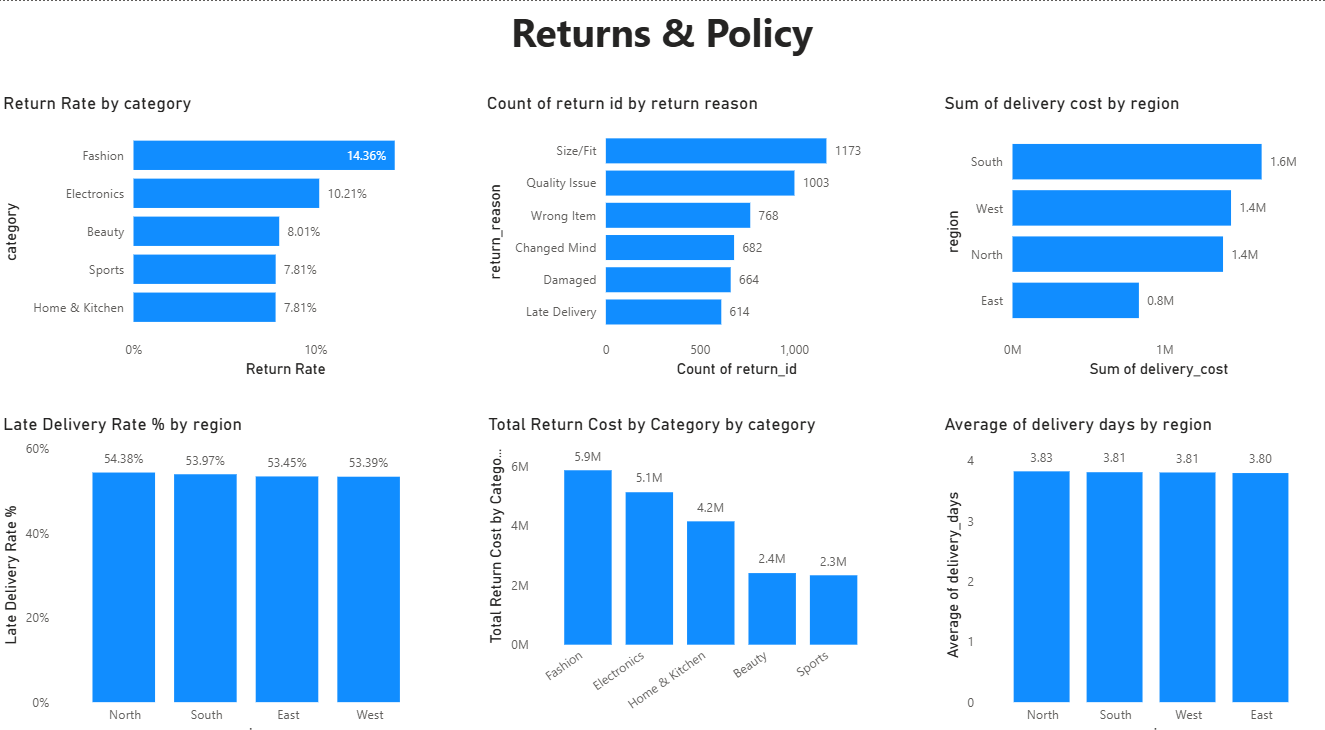

What the dashboard file says about the page in this screenshot:
{"tool":"powerbi","page":{"name":"Returns & Delivery","canvas":[1280,720],"ordinal":1},"visuals":[{"type":"clusteredBarChart","fields":{"Category":["tblproducts.category"],"Y":["tblorders.Return Rate %"]},"box":[0,87.8,441.1,280],"z":0},{"type":"textbox","box":[14,0,718,43],"z":1000},{"type":"clusteredBarChart","title":"Count of return id by return reason","fields":{"Category":["tblreturns.return_reason"],"Y":["CountNonNull(tblreturns.return_id)"]},"box":[466.7,87.8,392.2,280],"z":2000},{"type":"clusteredBarChart","title":"Sum of delivery cost by region","fields":{"Category":["tbldeliveries.region"],"Y":["Sum(tbldeliveries.delivery_cost)"]},"box":[907.8,87.8,372.2,280],"z":3000},{"type":"clusteredColumnChart","fields":{"Category":["tbldeliveries.region"],"Y":["tbldeliveries.Late Delivery Rate %"]},"box":[0,397.8,426.7,322.2],"z":4000},{"type":"clusteredColumnChart","fields":{"Category":["tblproducts.category"],"Y":["tblproducts.Total Return Cost by Category"]},"box":[467.1,397.4,391.3,322.8],"z":5000},{"type":"clusteredColumnChart","title":"Average of delivery days by region","fields":{"Category":["tbldeliveries.region"],"Y":["Avg(tbldeliveries.delivery_days)"]},"box":[907.8,397.8,372.2,322.2],"z":6000},{"type":"textbox","box":[0,0,1280,71.2],"z":7000}]}

Visuals, with their boxes in screenshot pixels (x1, y1, x2, y2), scaled from the page's 1280x720 canvas onto the 1325x730 screenshot:
clusteredBarChart - tblproducts.category x tblorders.Return Rate %: [x1=0, y1=89, x2=457, y2=373]
textbox: [x1=14, y1=0, x2=758, y2=44]
"Count of return id by return reason" clusteredBarChart: [x1=483, y1=89, x2=889, y2=373]
"Sum of delivery cost by region" clusteredBarChart: [x1=940, y1=89, x2=1324, y2=373]
clusteredColumnChart - tbldeliveries.region x tbldeliveries.Late Delivery Rate %: [x1=0, y1=403, x2=442, y2=729]
clusteredColumnChart - tblproducts.category x tblproducts.Total Return Cost by Category: [x1=484, y1=403, x2=889, y2=729]
"Average of delivery days by region" clusteredColumnChart: [x1=940, y1=403, x2=1324, y2=729]
textbox: [x1=0, y1=0, x2=1324, y2=72]
